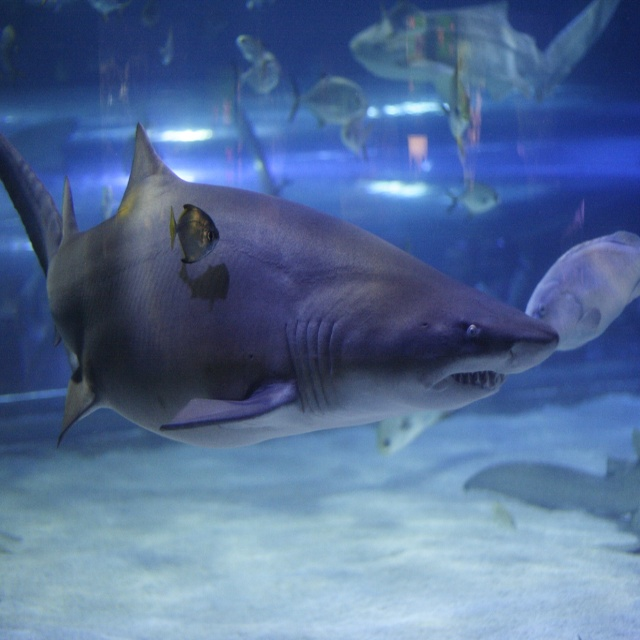Shark: (0, 121, 559, 449)
